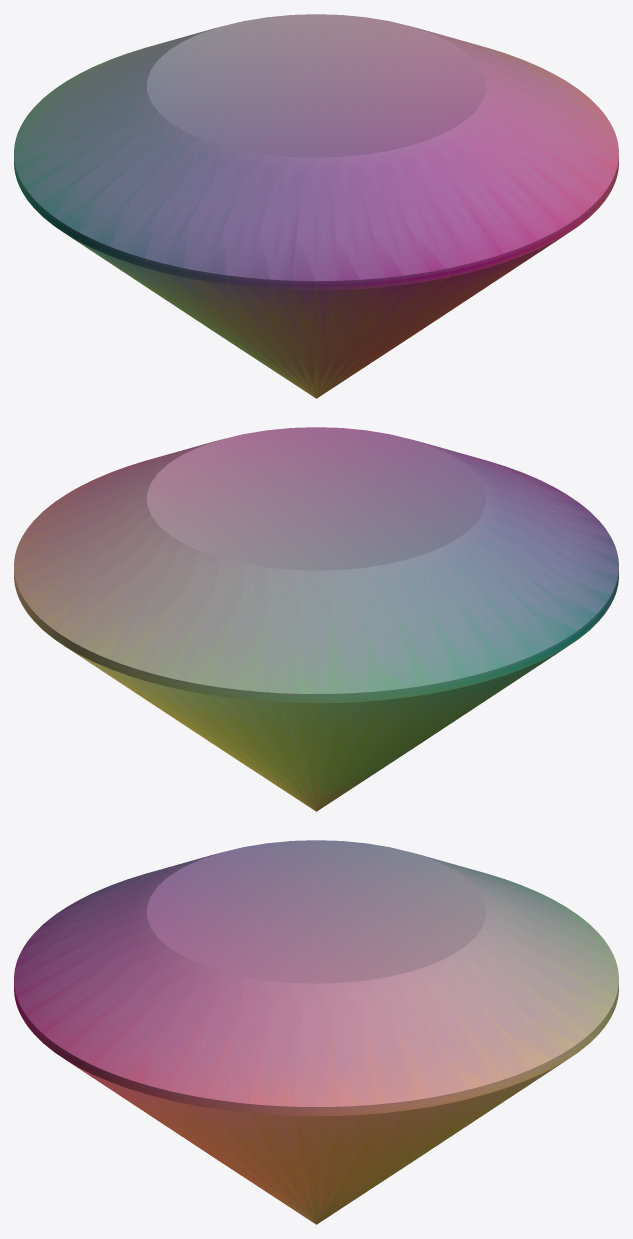
The model's file is Gem.fbx.
The picture shows the model from 3 angles, top to bottom: view 1: azimuth 30°, elevation 25°; view 2: azimuth 150°, elevation 25°; view 3: azimuth 270°, elevation 25°; orthographic projection.
Visible parts, largest first — view 1: Gem; view 2: Gem; view 3: Gem.
Part boxes in pixels (<box>): Gem: <box>14,14,618,398</box>; Gem: <box>14,427,618,811</box>; Gem: <box>14,840,618,1224</box>.
Size of the model in its own units: 200 by 114 by 200.
